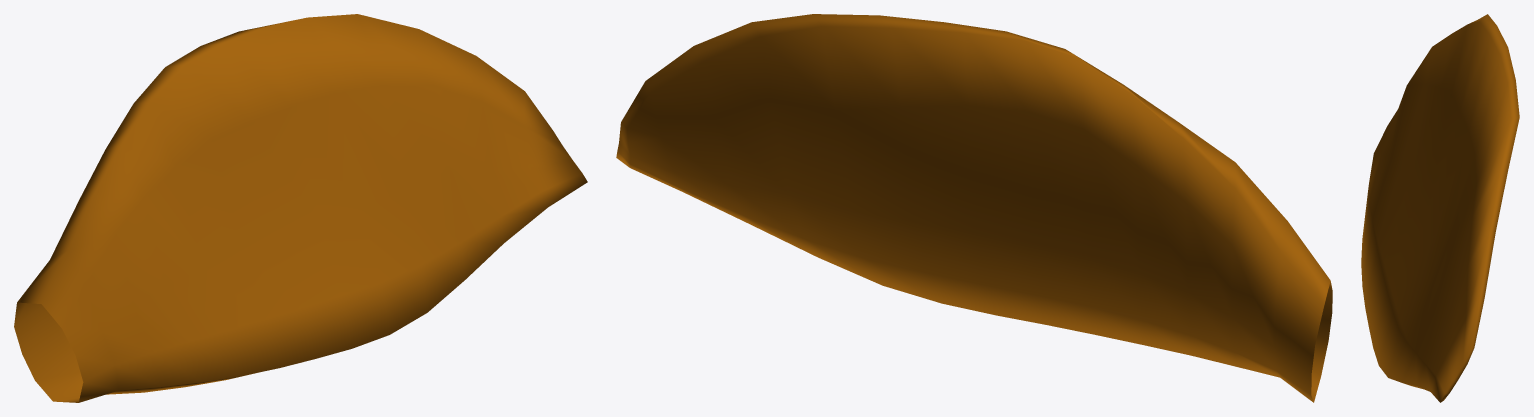
The model's file is ala1.obj.
The picture shows the model from 3 angles, left to right: view 1: azimuth 30°, elevation 25°; view 2: azimuth 150°, elevation 25°; view 3: azimuth 270°, elevation 25°; orthographic projection. The views are drawn at different scales.
Parts seen in each view (by area): view 1: Body.001; view 2: Body.001; view 3: Body.001.
Part boxes in pixels (x1,y1,x2,y2): Body.001: [14, 14, 587, 402]; Body.001: [616, 14, 1332, 402]; Body.001: [1361, 14, 1519, 402].
Bounding box in the file's own units: 0.2678 × 0.1271 × 0.0644.
